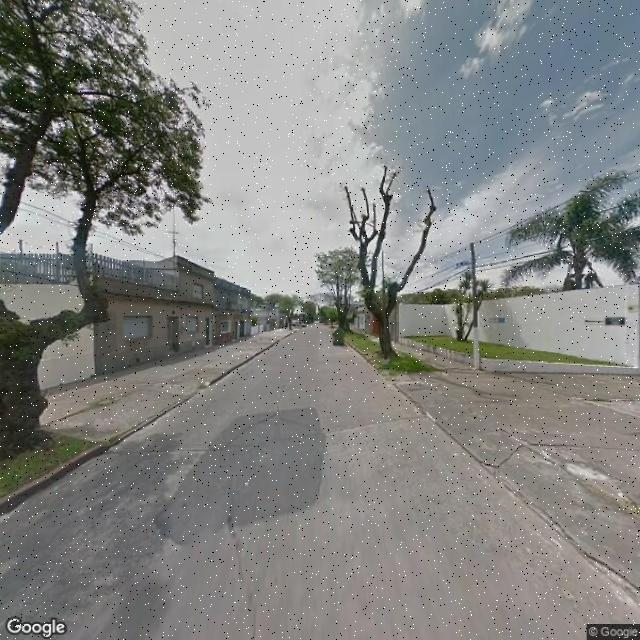garbage container: (329, 327, 352, 352)
